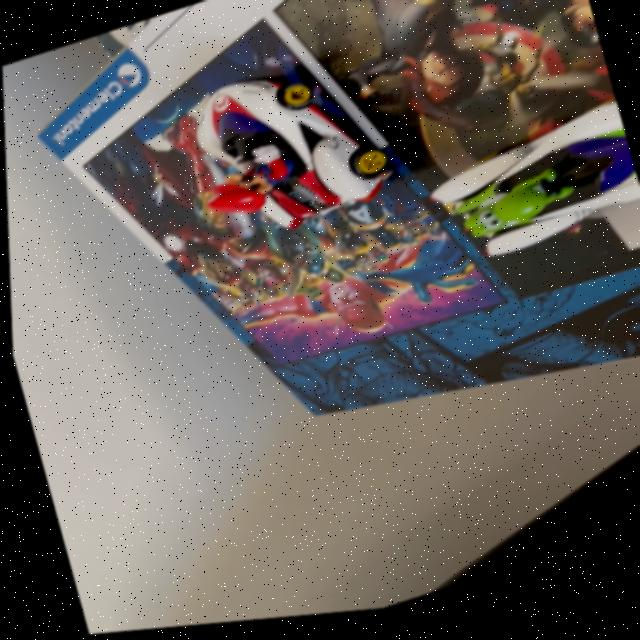mario: (155, 31, 416, 272)
yoshi: (403, 102, 640, 314)
